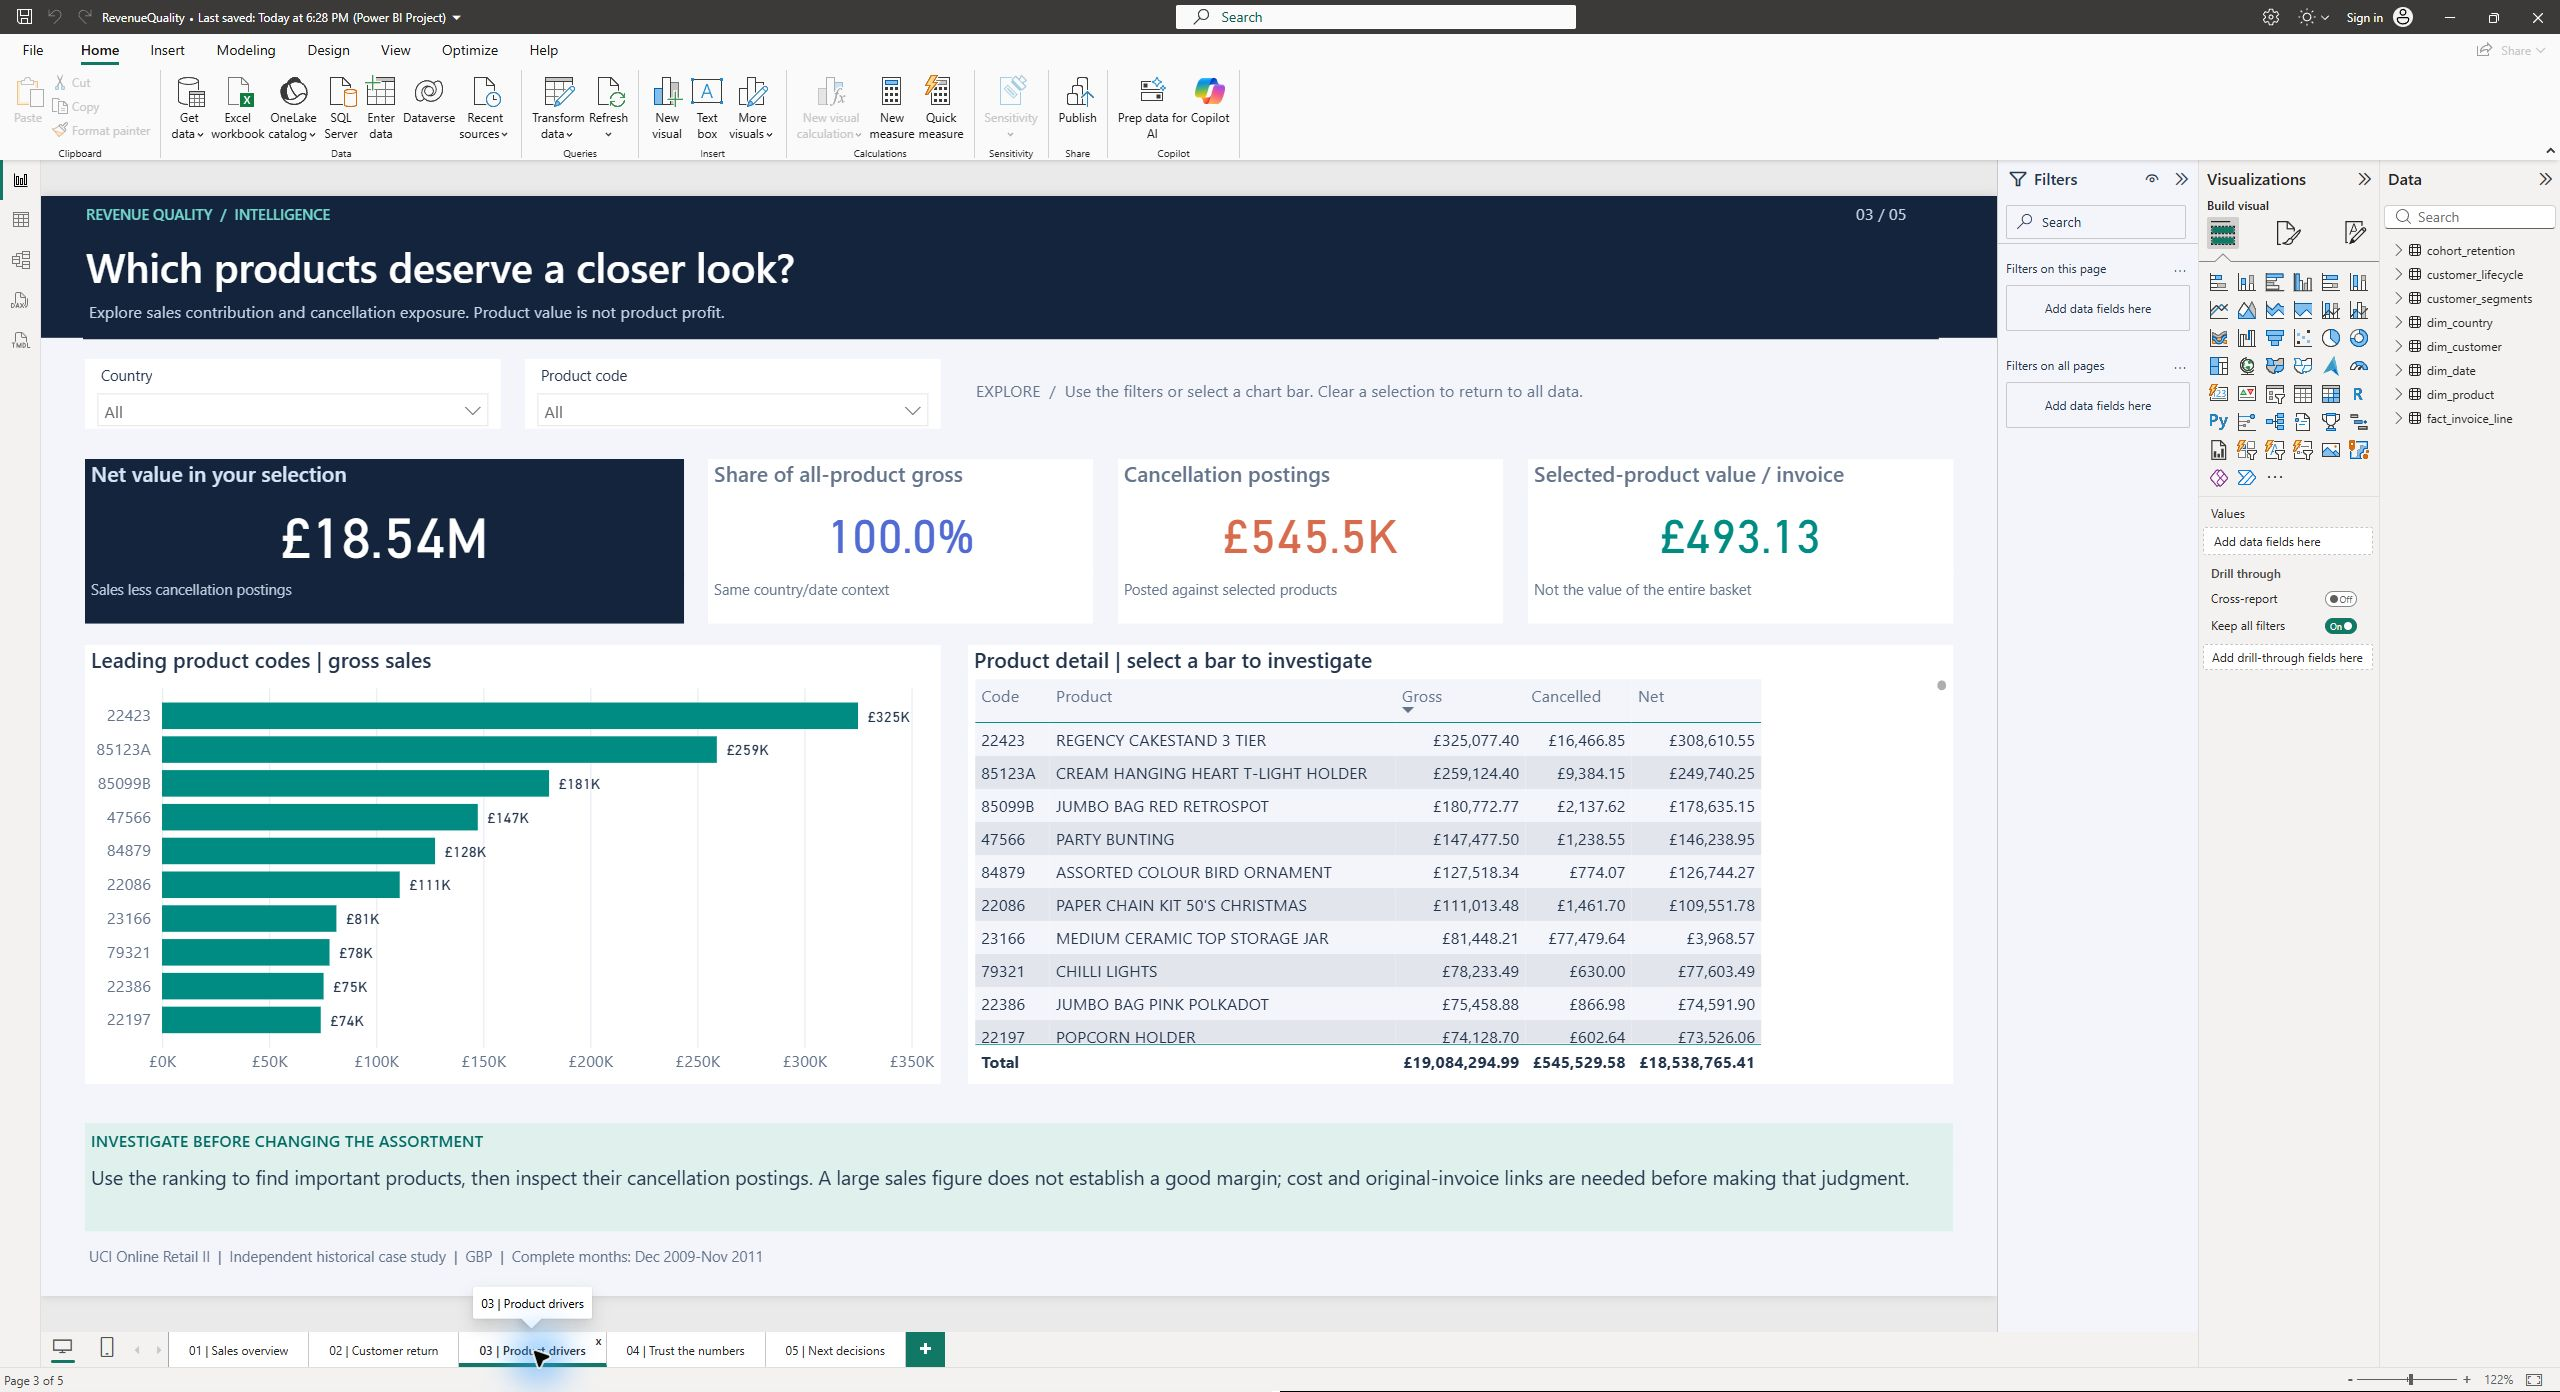

The dashboard page shown, as its layout file describes it:
{"tool":"powerbi","page":{"name":"03 | Product drivers","canvas":[1600,900],"ordinal":2},"visuals":[{"type":"textbox","box":[0,0,1600,116],"z":40},{"type":"textbox","box":[32,0,1000,35.5],"z":41},{"type":"textbox","box":[32,30,1515,61],"z":42},{"type":"textbox","box":[34,80,1518,37],"z":43},{"type":"textbox","box":[1480,0,92,37],"z":44},{"type":"textbox","box":[34,852,1530,36],"z":45},{"type":"slicer","fields":{"Values":["dim_country.country_key"]},"box":[36,133,340,57],"z":46},{"type":"slicer","fields":{"Values":["dim_product.product_key"]},"box":[396,133,340,57],"z":47},{"type":"textbox","box":[760,145,790,37],"z":48},{"type":"card","title":"Net value in your selection","fields":{"Values":["fact_invoice_line.Net Merchandise GBP"]},"box":[36,215,490,96],"z":49},{"type":"textbox","box":[36,307,490,43],"z":50},{"type":"card","title":"Share of all-product gross","fields":{"Values":["fact_invoice_line.Product Gross Share"]},"box":[546,215,315,96],"z":51},{"type":"textbox","box":[546,307,315,43],"z":52},{"type":"card","title":"Cancellation postings","fields":{"Values":["fact_invoice_line.Cancellation Postings GBP"]},"box":[881,215,315,96],"z":53},{"type":"textbox","box":[881,307,315,43],"z":54},{"type":"card","title":"Selected-product value / invoice","fields":{"Values":["fact_invoice_line.Gross AOV GBP"]},"box":[1216,215,348,96],"z":55},{"type":"textbox","box":[1216,307,348,43],"z":56},{"type":"clusteredBarChart","title":"Leading product codes | gross sales","fields":{"Category":["dim_product.product_key"],"Y":["fact_invoice_line.Gross Sales GBP"]},"box":[36,367,700,359],"z":57},{"type":"tableEx","title":"Product detail | select a bar to investigate","fields":{"Values":["dim_product.product_key","dim_product.product_name","fact_invoice_line.Gross Sales GBP","fact_invoice_line.Cancellation Postings GBP","fact_invoice_line.Net Merchandise GBP"]},"box":[758,367,806,359],"z":58},{"type":"textbox","box":[36,758,1528,37],"z":59},{"type":"textbox","box":[36,787,1528,60],"z":60}]}

Visuals, with their boxes on the page's 1600x900 design canvas (x1, y1, x2, y2). These are canvas units, not pixel positions in the 2560x1392 screenshot, which may show the page scaled, cropped or inside an application window:
textbox: bbox(0, 0, 1600, 116)
textbox: bbox(32, 0, 1032, 36)
textbox: bbox(32, 30, 1547, 91)
textbox: bbox(34, 80, 1552, 117)
textbox: bbox(1480, 0, 1572, 37)
textbox: bbox(34, 852, 1564, 888)
slicer - dim_country.country_key: bbox(36, 133, 376, 190)
slicer - dim_product.product_key: bbox(396, 133, 736, 190)
textbox: bbox(760, 145, 1550, 182)
"Net value in your selection" card: bbox(36, 215, 526, 311)
textbox: bbox(36, 307, 526, 350)
"Share of all-product gross" card: bbox(546, 215, 861, 311)
textbox: bbox(546, 307, 861, 350)
"Cancellation postings" card: bbox(881, 215, 1196, 311)
textbox: bbox(881, 307, 1196, 350)
"Selected-product value / invoice" card: bbox(1216, 215, 1564, 311)
textbox: bbox(1216, 307, 1564, 350)
"Leading product codes | gross sales" clusteredBarChart: bbox(36, 367, 736, 726)
"Product detail | select a bar to investigate" tableEx: bbox(758, 367, 1564, 726)
textbox: bbox(36, 758, 1564, 795)
textbox: bbox(36, 787, 1564, 847)
